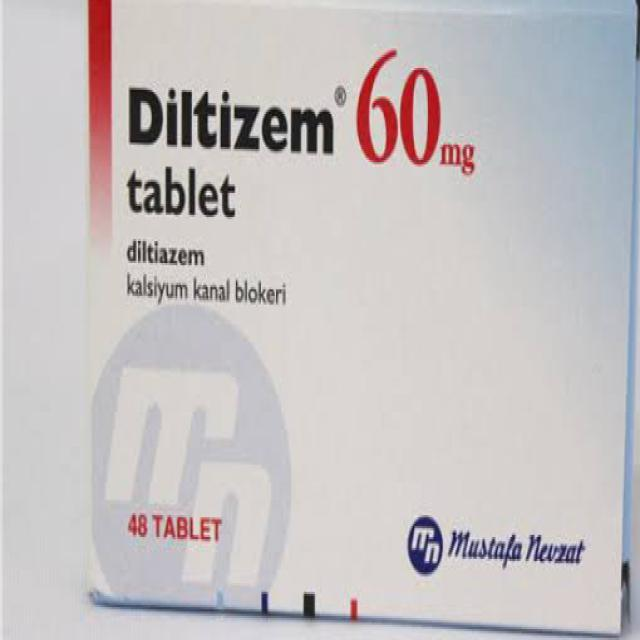drug-name: (124, 77, 338, 159)
